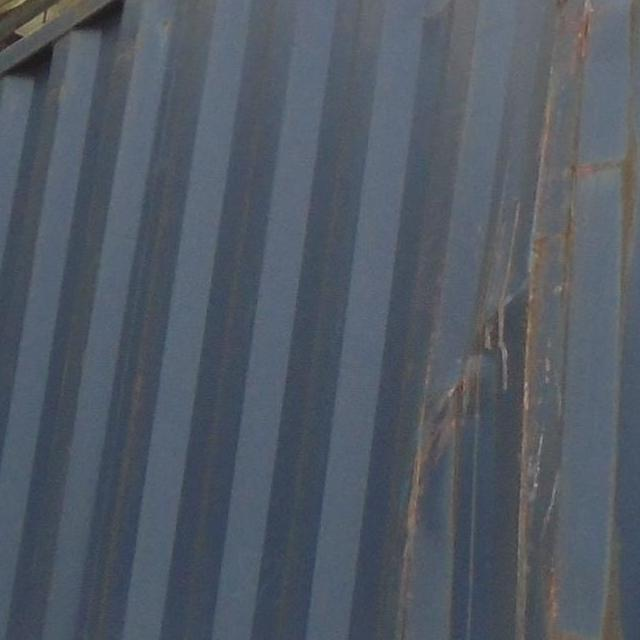dent: (388, 232, 576, 533)
